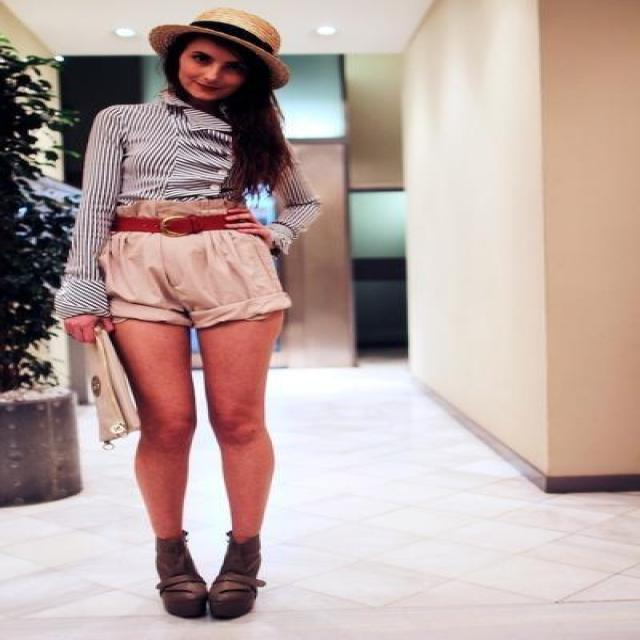hat: (141, 0, 296, 85)
shirt: (43, 97, 314, 319)
shoe: (155, 530, 264, 620)
shorts: (98, 230, 286, 344)
